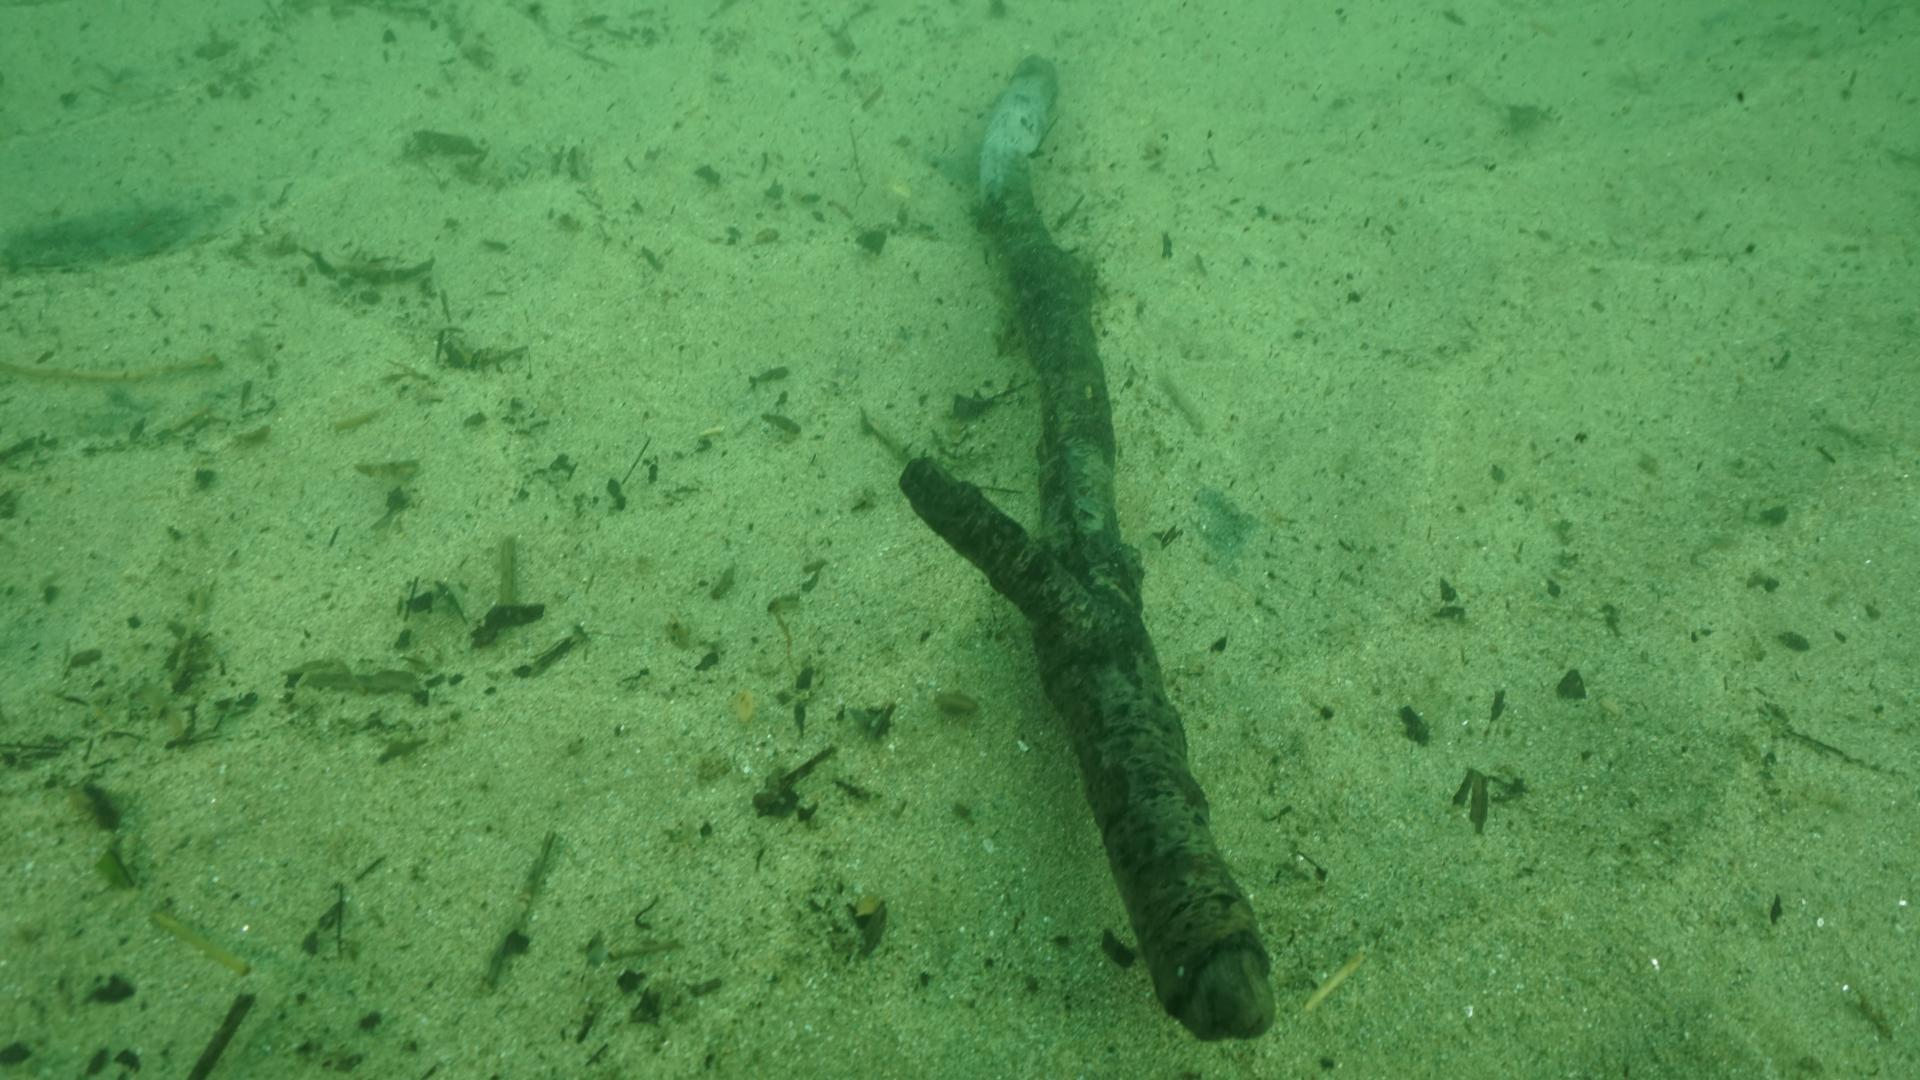wood: (895, 54, 1276, 1040)
